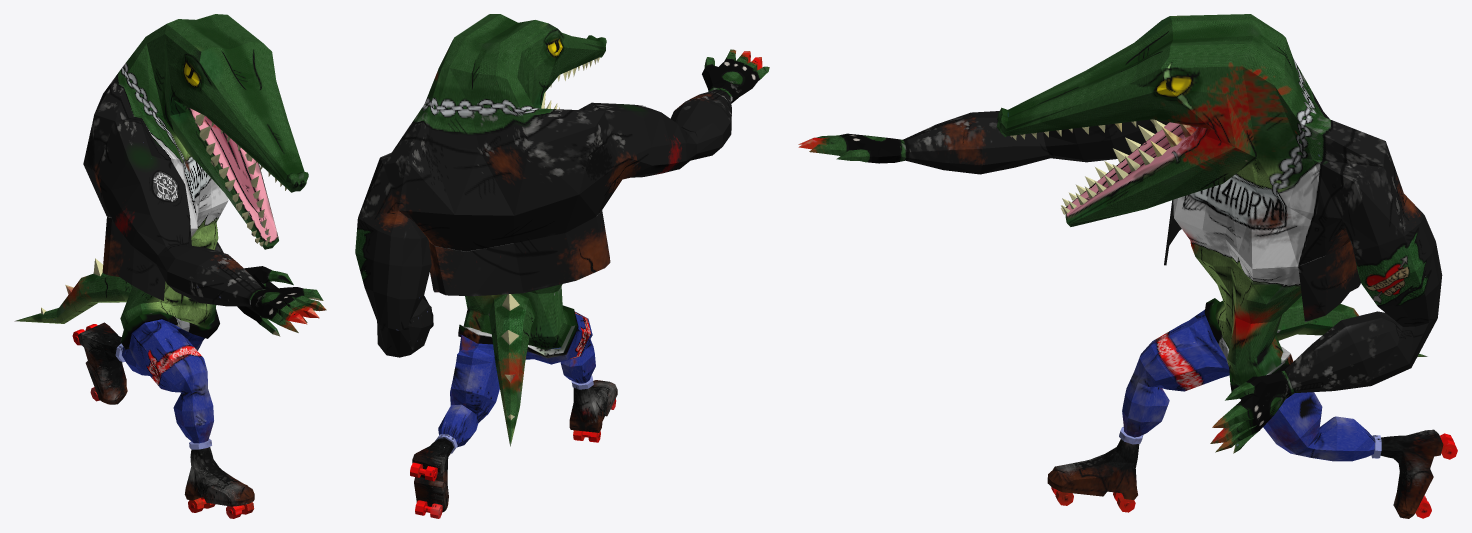
Rendered from cocodrilaBonesSelect_000012.obj.
3 renders of one model, left to right at view 1: azimuth 30°, elevation 25°; view 2: azimuth 150°, elevation 25°; view 3: azimuth 270°, elevation 25°, orthographic. The views are drawn at different scales.
Parts seen in each view (by area): view 1: Crocodile.002_Cylinder.002; view 2: Crocodile.002_Cylinder.002; view 3: Crocodile.002_Cylinder.002.
Part boxes in pixels (x1,y1,x2,y2): Crocodile.002_Cylinder.002: (14,14,326,518); Crocodile.002_Cylinder.002: (355,14,769,518); Crocodile.002_Cylinder.002: (798,14,1457,518).
Bounding box in the file's own units: 3.29 × 6.01 × 7.11.
